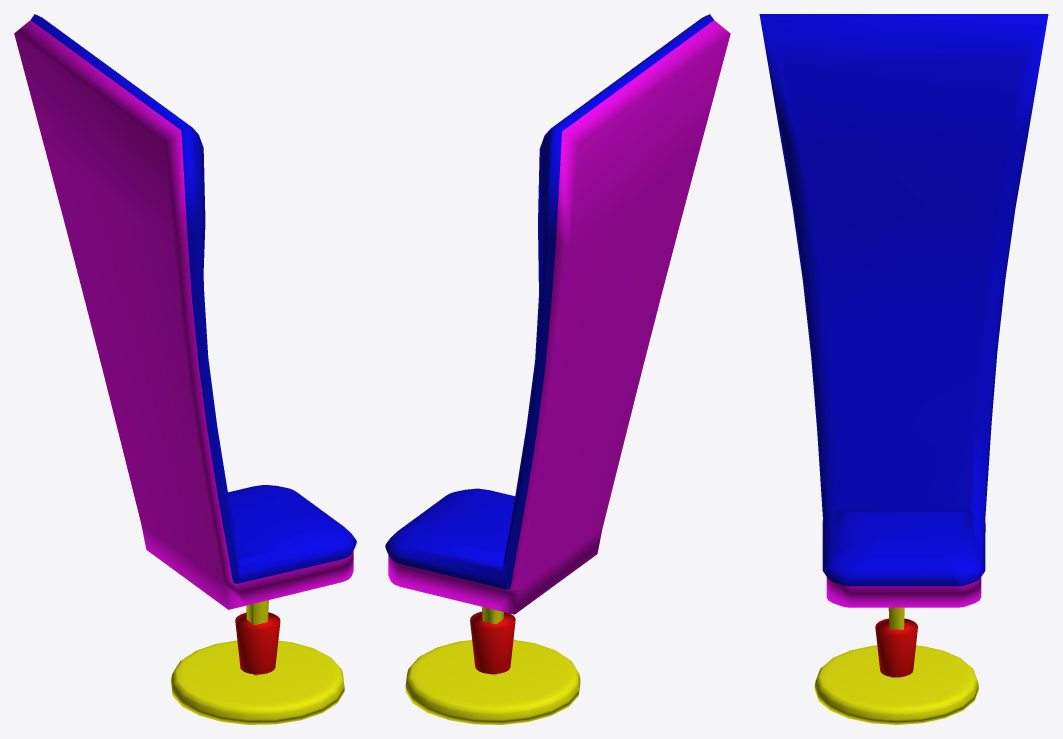
File: demon_chair_01.fbx
3 renders of one model, left to right at view 1: azimuth 30°, elevation 25°; view 2: azimuth 150°, elevation 25°; view 3: azimuth 270°, elevation 25°, orthographic. The views are drawn at different scales.
Visible parts, largest first — view 1: GEO_chair; view 2: GEO_chair; view 3: GEO_chair.
Part boxes in pixels (<box>): GEO_chair: <box>14,14,356,724</box>; GEO_chair: <box>385,14,730,724</box>; GEO_chair: <box>759,14,1048,724</box>.
Bounding box in the file's own units: 108 × 279 × 120.
